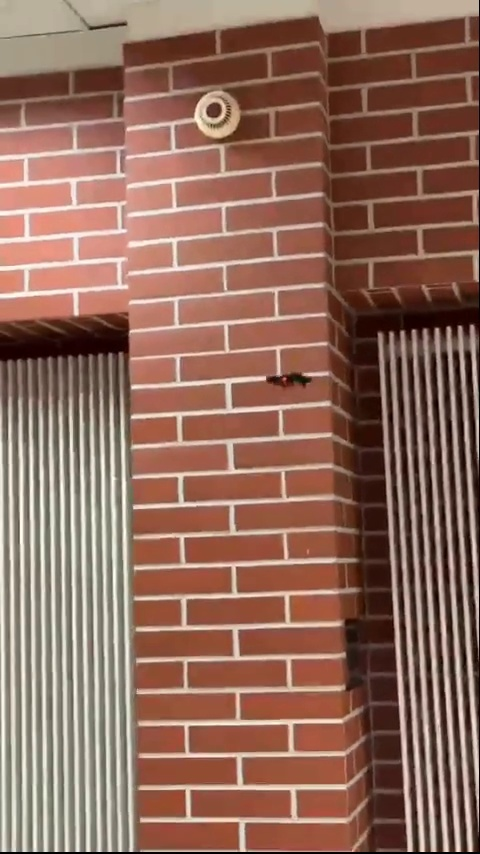drone: (265, 373, 321, 390)
